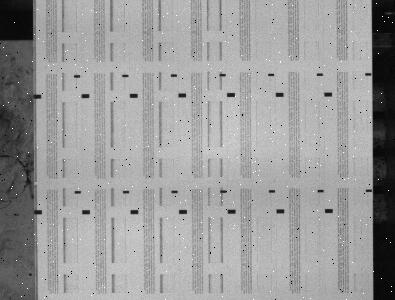backgroundclutter: (29, 273, 32, 276), (34, 181, 37, 184)
qblock: (129, 93, 138, 98), (34, 210, 42, 215), (33, 94, 41, 99), (276, 92, 284, 97), (324, 92, 332, 97), (179, 209, 187, 214), (228, 209, 236, 214), (276, 209, 285, 213), (130, 210, 139, 214), (178, 93, 186, 97), (81, 94, 89, 98), (227, 93, 235, 97), (325, 209, 333, 213), (82, 210, 90, 214)
smallqblock: (220, 73, 226, 77), (317, 189, 324, 192), (171, 190, 178, 193), (220, 190, 227, 193), (74, 191, 81, 194), (268, 73, 275, 76), (122, 74, 129, 77), (365, 189, 372, 192), (365, 73, 372, 76), (123, 190, 129, 193), (269, 190, 275, 193), (317, 73, 323, 76), (171, 74, 177, 77), (74, 75, 80, 78)
